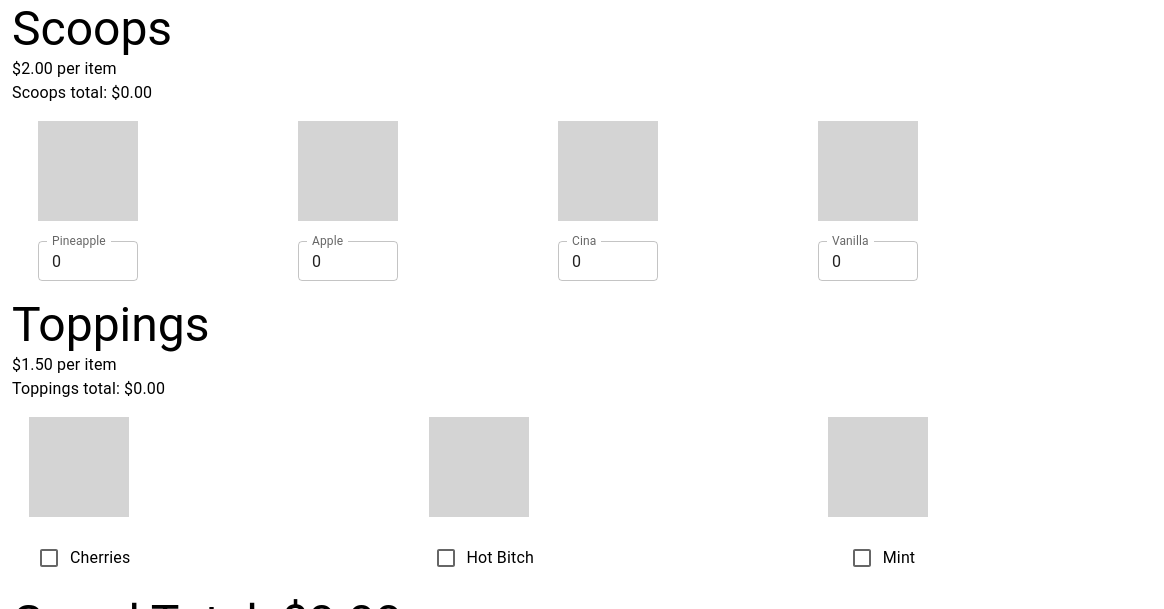
Test: grand total › should update the grand total if scoop is added first
Replace the text in the number field with test id "Vanilla" with "1": (868, 261) [818,241,918,281]
(page scrolled)
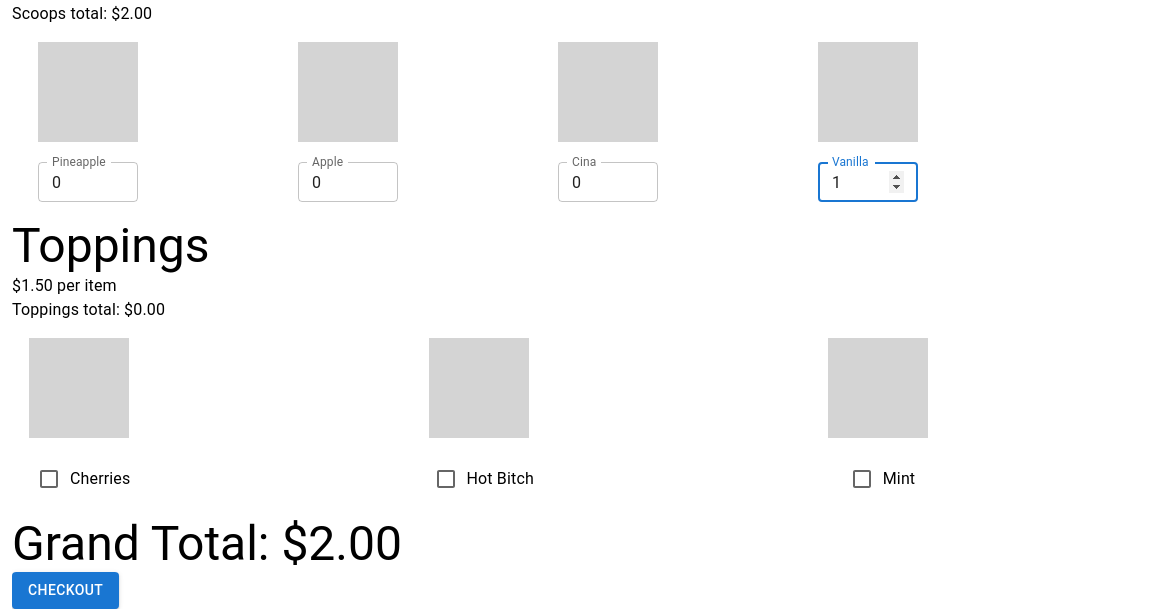
Expected: the heading "Grand Total: $2.00" is shown, [12,515,402,572]
